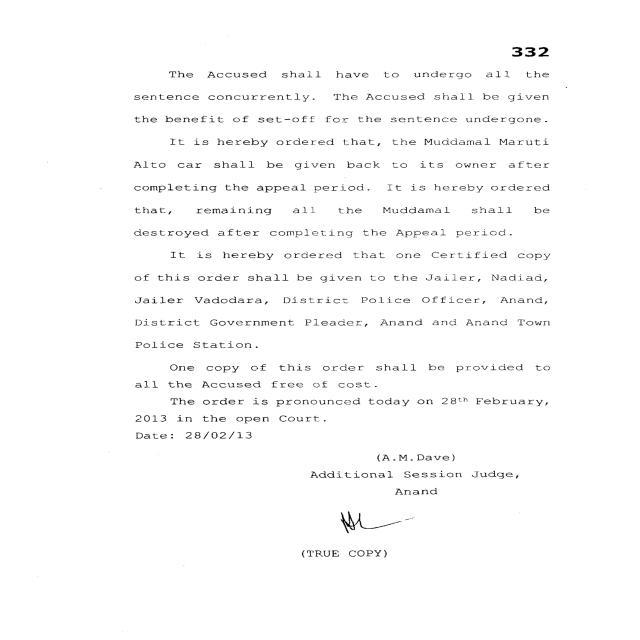page-number: (439, 0, 640, 62)
